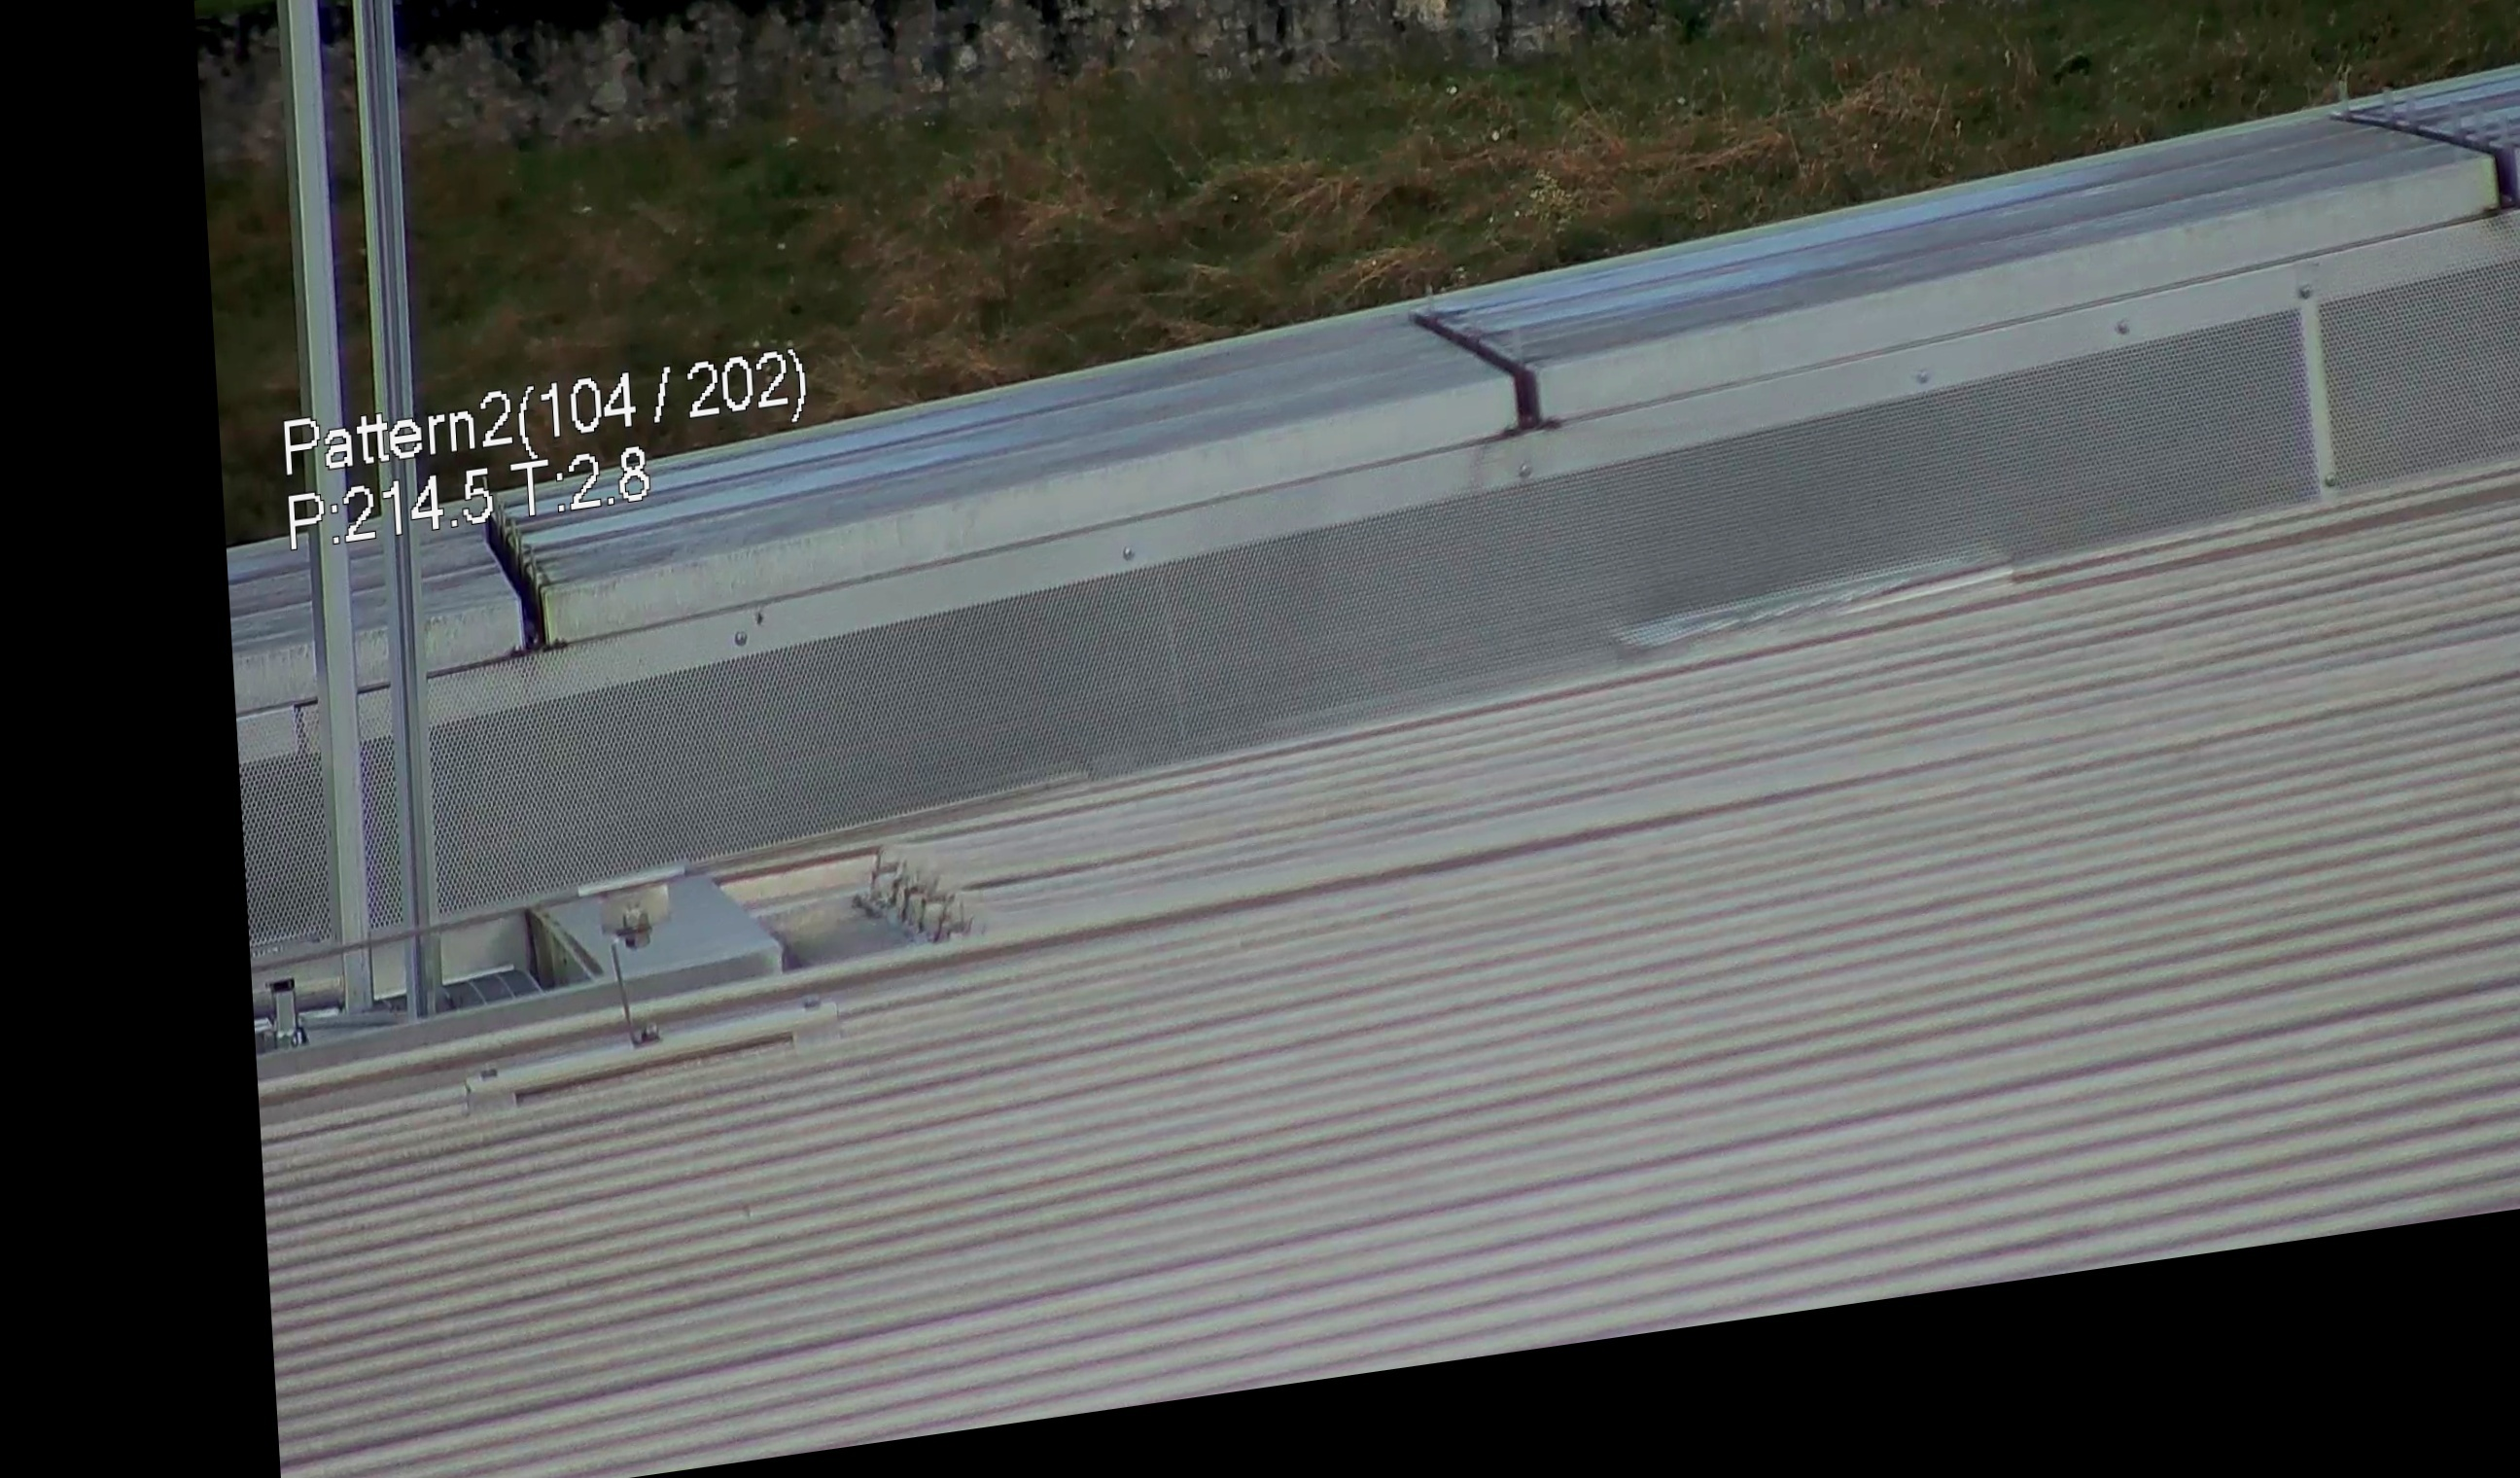Other: (461, 484, 559, 669)
